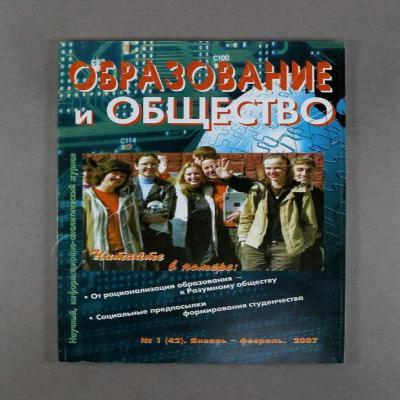rare_books: (61, 40, 347, 362)
